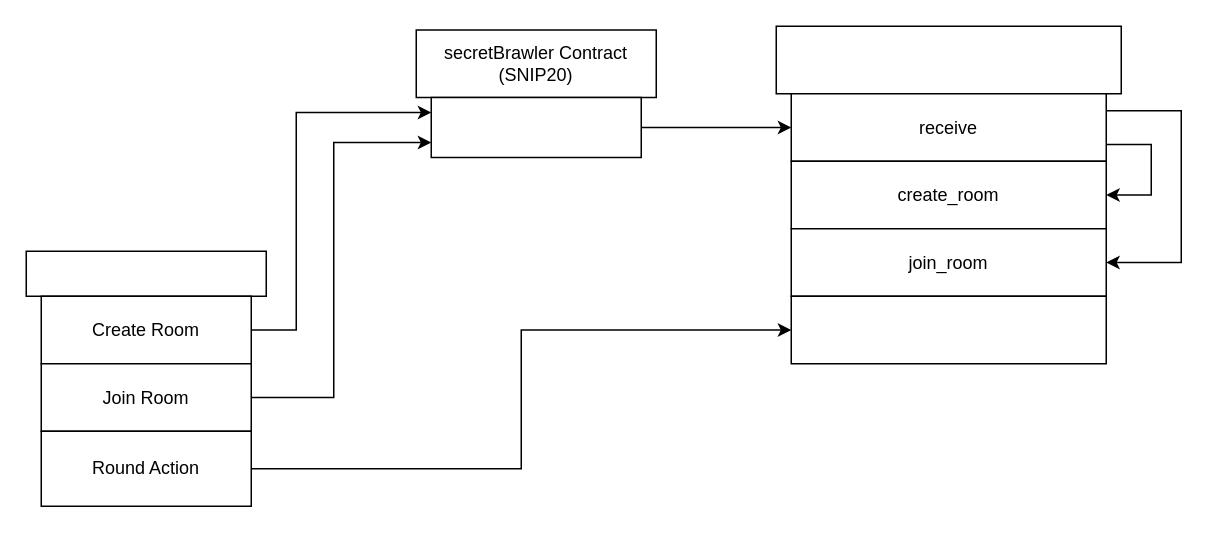
The diagram is 1220 pixels wide and 533 high, and some of its shapes have lost their labels. Each missing label, with the centre of its shape:
Frontend: point (145, 273)
round_action: point (948, 329)
secretBraw Contract: point (948, 59)
Send: point (535, 127)
